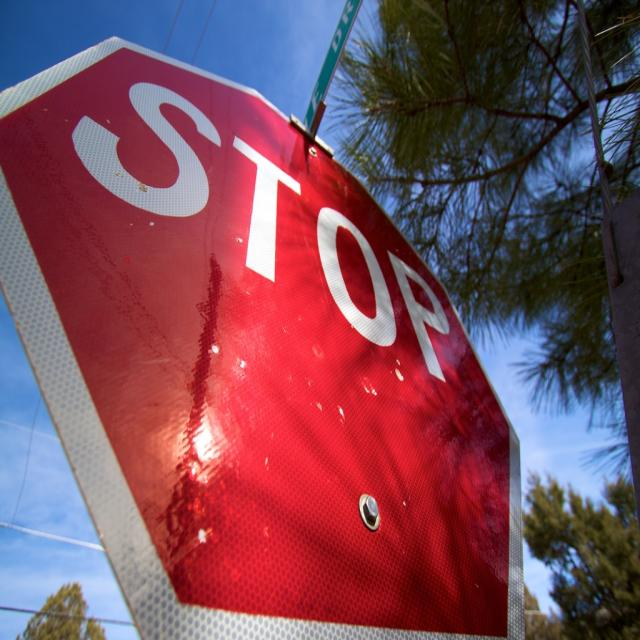Stop-sign: (0, 28, 521, 640)
